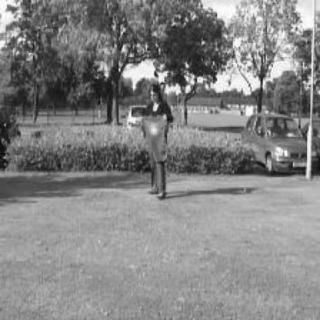other: (135, 111, 171, 161)
